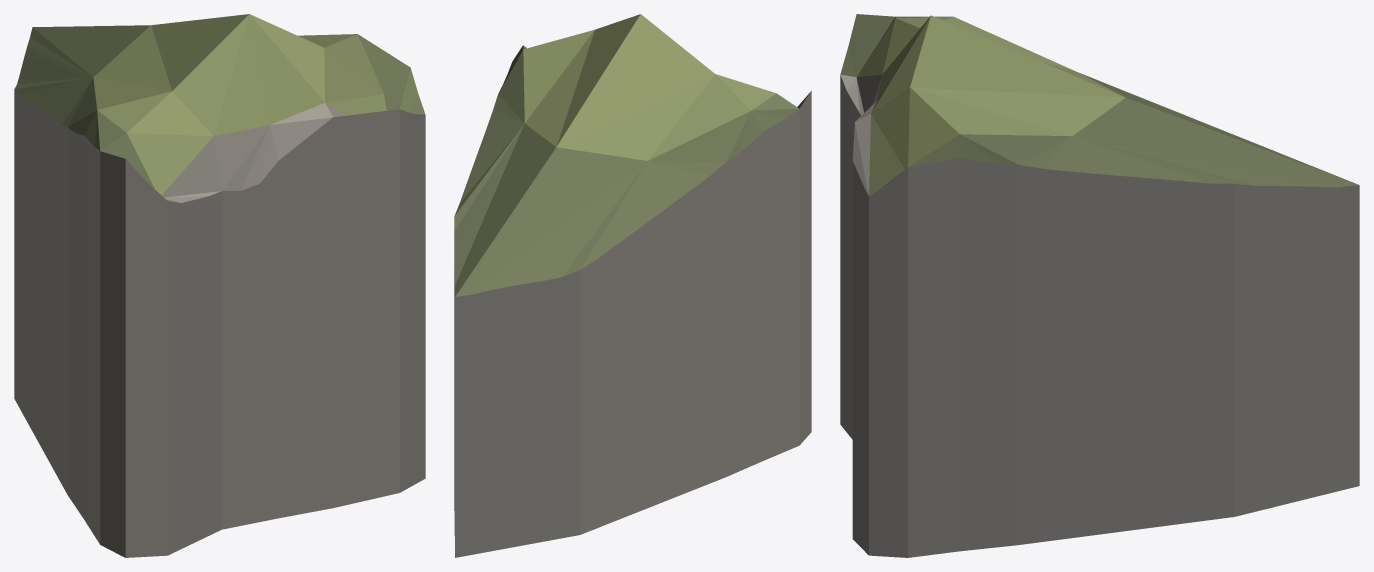
The model's file is cliff_western_slab.glb.
The picture shows the model from 3 angles, left to right: view 1: azimuth 30°, elevation 25°; view 2: azimuth 150°, elevation 25°; view 3: azimuth 270°, elevation 25°; orthographic projection. The views are drawn at different scales.
Parts seen in each view (by area): view 1: cliff_western_slab; view 2: cliff_western_slab; view 3: cliff_western_slab.
Part boxes in pixels (bbox=[...]): cliff_western_slab: bbox=[14, 14, 425, 557]; cliff_western_slab: bbox=[454, 14, 811, 557]; cliff_western_slab: bbox=[840, 14, 1359, 557].
Size of the model in its own units: 55.6 by 80 by 79.97.
